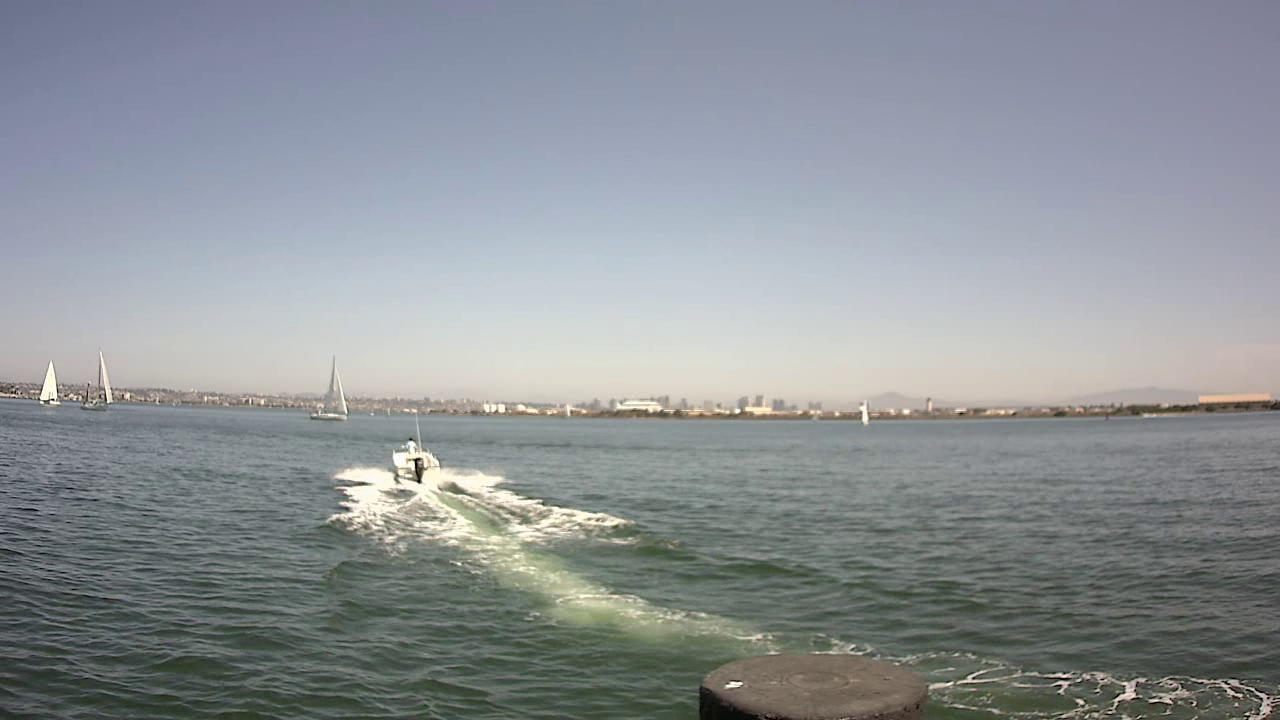target: (386, 432, 448, 488)
